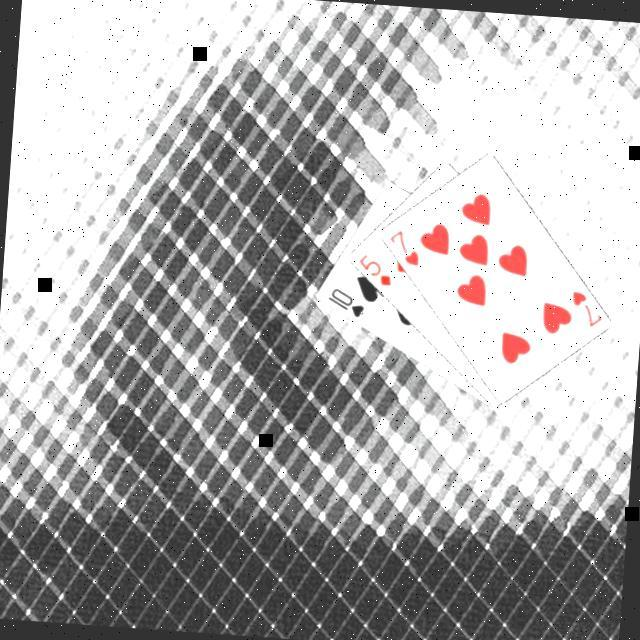10S: (322, 284, 367, 321)
5D: (352, 251, 394, 290)
7H: (382, 225, 423, 270), (565, 287, 606, 332)
